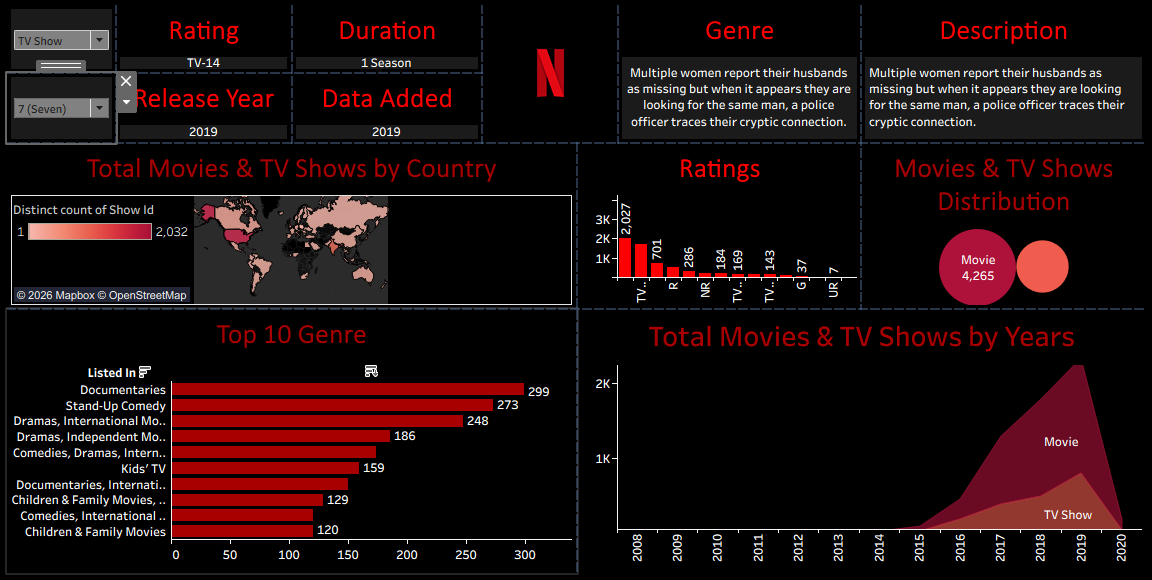

This screenshot's page, from the dashboard's own definition file:
{"tool":"tableau","page":{"name":"Dashboard 1","canvas":[1000,1000],"units":"permille","ordinal":0},"visuals":[{"type":"filter","title":"Description","param":"[federated.1cjdsti0855o7i1a6pych0uhypi8].[none:type:nk]","box":[6.9,13.7,94.7,116.4]},{"type":"worksheet","title":"Rating","mark":"Automatic","box":[101.6,13.7,151.9,116.4]},{"type":"worksheet","title":"Duration","mark":"Automatic","box":[253.5,13.7,164.3,116.4]},{"type":"image","param":"Image/netflix.png","box":[417.8,13.7,118,236.3]},{"type":"worksheet","title":"Genre","mark":"Automatic","box":[535.8,13.7,210.7,236.3]},{"type":"worksheet","title":"Description","mark":"Automatic","box":[746.5,13.7,246.6,236.3]},{"type":"filter","title":"Description","param":"[federated.1cjdsti0855o7i1a6pych0uhypi8].[none:title:nk]","box":[6.9,130.1,94.7,119.9]},{"type":"worksheet","title":"Release Year","mark":"Automatic","box":[101.6,130.1,151.9,119.9]},{"type":"worksheet","title":"Data Added","mark":"Automatic","box":[253.5,130.1,164.3,119.9]},{"type":"worksheet","title":"Total Movies & TV Shows by Country","mark":"Multipolygon","box":[6.9,250,493.1,284.2]},{"type":"worksheet","title":"Ratings","mark":"Automatic","rows":["show_id"],"cols":["rating"],"box":[500,250,246.5,284.2]},{"type":"worksheet","title":"Movies & TV Shows Distribution","mark":"Circle","box":[746.5,250,246.6,284.2]},{"type":"legend","title":"Total Movies & TV Shows by Country","param":"[federated.1cjdsti0855o7i1a6pych0uhypi8].[ctd:show_id:qk]","box":[11.8,349.3,155.9,176.4]},{"type":"worksheet","title":"Top 10 Genre","mark":"Automatic","rows":["listed_in"],"cols":["show_id"],"box":[6.9,534.2,493.1,452.1]},{"type":"worksheet","title":"Total Movies & TV Shows by Years","mark":"Area","rows":["show_id"],"cols":["date_added"],"box":[500,534.2,493.1,452.1]}]}

Visuals, with their boxes on the dashboard's canvas, which has no fixed pixel size, in thousandths of its width and height (x1, y1, x2, y2). These are canvas units, not pixel positions in the 1152x580 screenshot, which may show the page scaled, cropped or inside an application window:
"Description" filter: bbox=[7, 14, 102, 130]
"Rating" worksheet: bbox=[102, 14, 254, 130]
"Duration" worksheet: bbox=[254, 14, 418, 130]
image: bbox=[418, 14, 536, 250]
"Genre" worksheet: bbox=[536, 14, 746, 250]
"Description" worksheet: bbox=[746, 14, 993, 250]
"Description" filter: bbox=[7, 130, 102, 250]
"Release Year" worksheet: bbox=[102, 130, 254, 250]
"Data Added" worksheet: bbox=[254, 130, 418, 250]
"Total Movies & TV Shows by Country" worksheet (Multipolygon marks): bbox=[7, 250, 500, 534]
"Ratings" worksheet: bbox=[500, 250, 746, 534]
"Movies & TV Shows Distribution" worksheet (Circle marks): bbox=[746, 250, 993, 534]
"Total Movies & TV Shows by Country" legend: bbox=[12, 349, 168, 526]
"Top 10 Genre" worksheet: bbox=[7, 534, 500, 986]
"Total Movies & TV Shows by Years" worksheet (Area marks): bbox=[500, 534, 993, 986]
